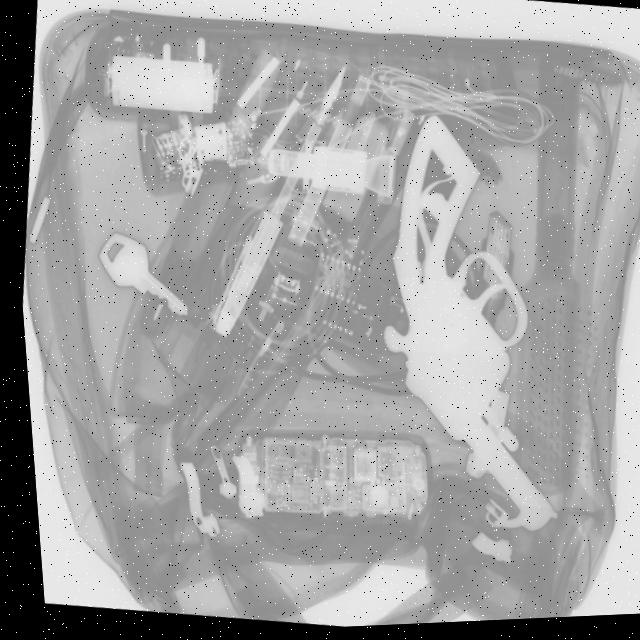pistol: (344, 116, 593, 543)
